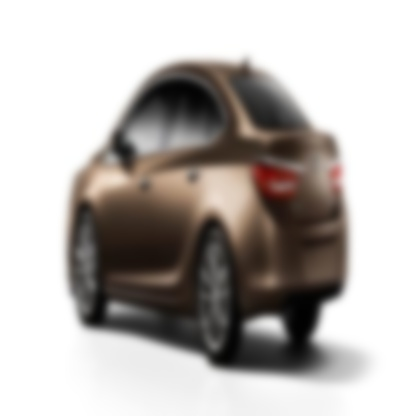Vehicle: (68, 58, 348, 372)
